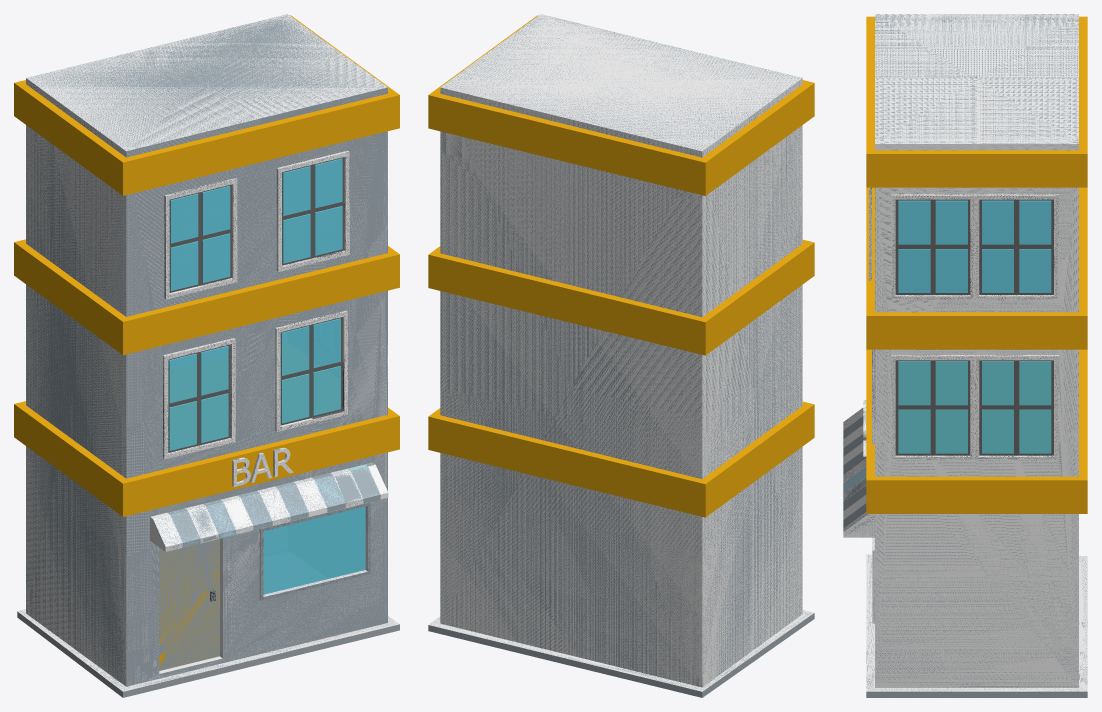
Rendered from BAR.fbx.
The picture shows the model from 3 angles, left to right: view 1: azimuth 30°, elevation 25°; view 2: azimuth 150°, elevation 25°; view 3: azimuth 270°, elevation 25°; orthographic projection.
Parts seen in each view (by area): view 1: Model, Group5, Group1, Group2, Group8, Group6, Group7, Group4, Group3, BAR1; view 2: Model, Group5, Group2, Group1; view 3: Model, Group5, Group2, Group1, Group11, Group12, Group9, Group10, Group8.
Boxes of the visible parts, x1,y1,x2,y2 form: Model: (17, 14, 399, 697); Group5: (14, 15, 399, 195); Group1: (14, 239, 399, 355); Group2: (14, 401, 399, 516); Group8: (150, 462, 388, 551); Group6: (164, 178, 237, 299); Group7: (276, 150, 349, 271); Group4: (275, 310, 347, 431); Group3: (163, 338, 235, 459); BAR1: (232, 447, 293, 486); Model: (428, 14, 814, 697); Group5: (428, 15, 814, 195); Group2: (428, 401, 814, 517); Group1: (428, 239, 814, 355); Model: (866, 14, 1087, 697); Group5: (866, 16, 1087, 187); Group2: (866, 349, 1087, 513); Group1: (866, 187, 1087, 349); Group11: (891, 194, 974, 300); Group12: (975, 194, 1058, 300); Group9: (891, 355, 974, 460); Group10: (975, 355, 1058, 460); Group8: (843, 408, 874, 537).
Bounding box in the file's own units: 9768 × 18257 × 7353.
